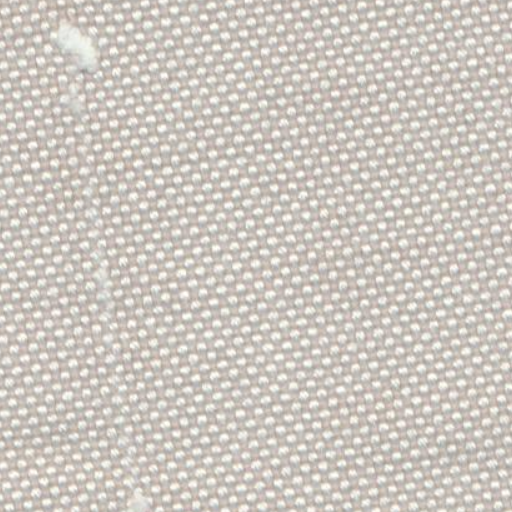MianQiu: (40, 18, 112, 83)
